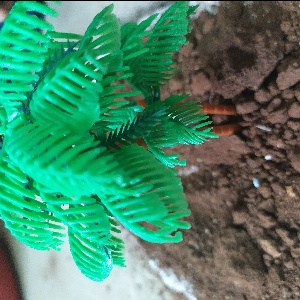plant: (1, 6, 253, 276)
